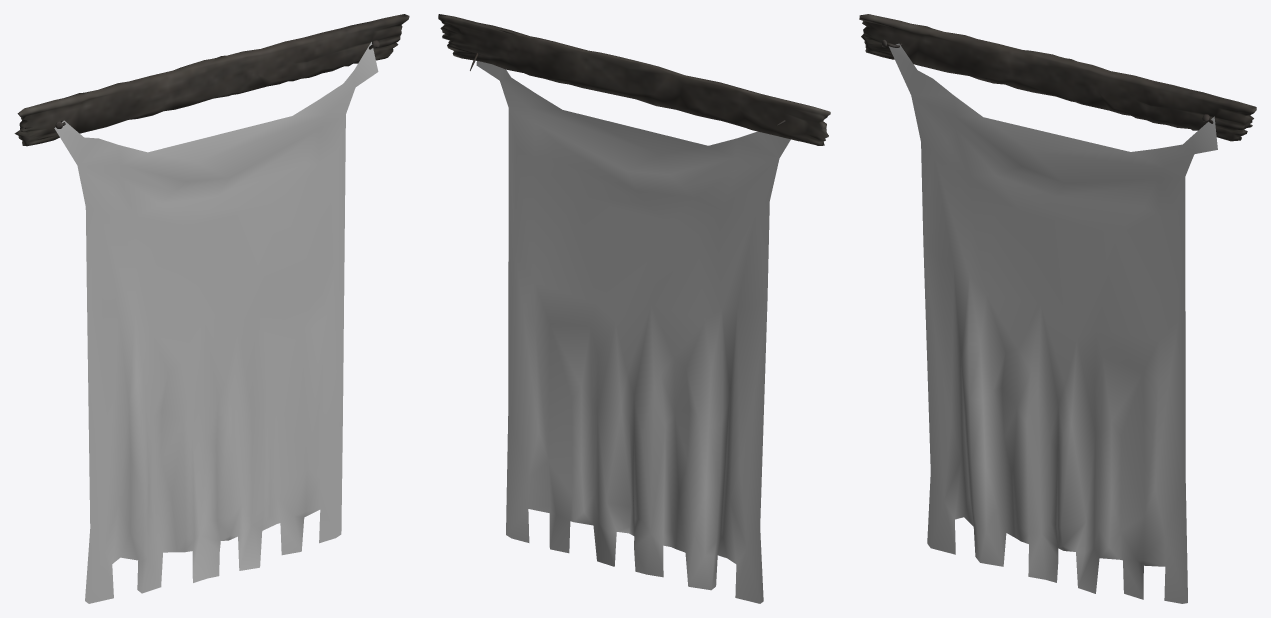
File: Banner_01.fbx
3 renders of one model, left to right at view 1: azimuth 30°, elevation 25°; view 2: azimuth 150°, elevation 25°; view 3: azimuth 330°, elevation 25°, orthographic.
Visible parts, largest first — view 1: Banner_01, Banner_Plank; view 2: Banner_01, Banner_Plank; view 3: Banner_01, Banner_Plank.
Boxes of the visible parts, x1,y1,x2,y2 form: Banner_01: (54,42,378,603); Banner_Plank: (14,14,409,146); Banner_01: (476,61,790,603); Banner_Plank: (438,14,830,145); Banner_01: (889,43,1217,603); Banner_Plank: (859,14,1256,141).
Size of what is drawn, in the model's own units: 192 by 241 by 17.2.
